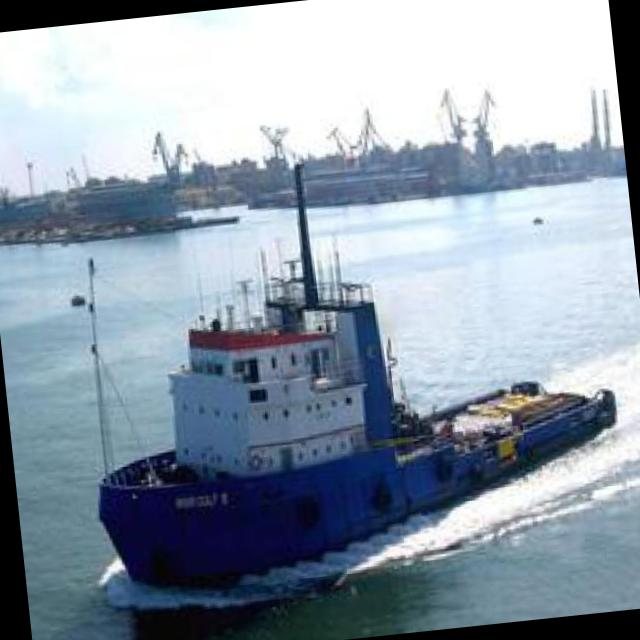boat: (61, 265, 634, 592)
